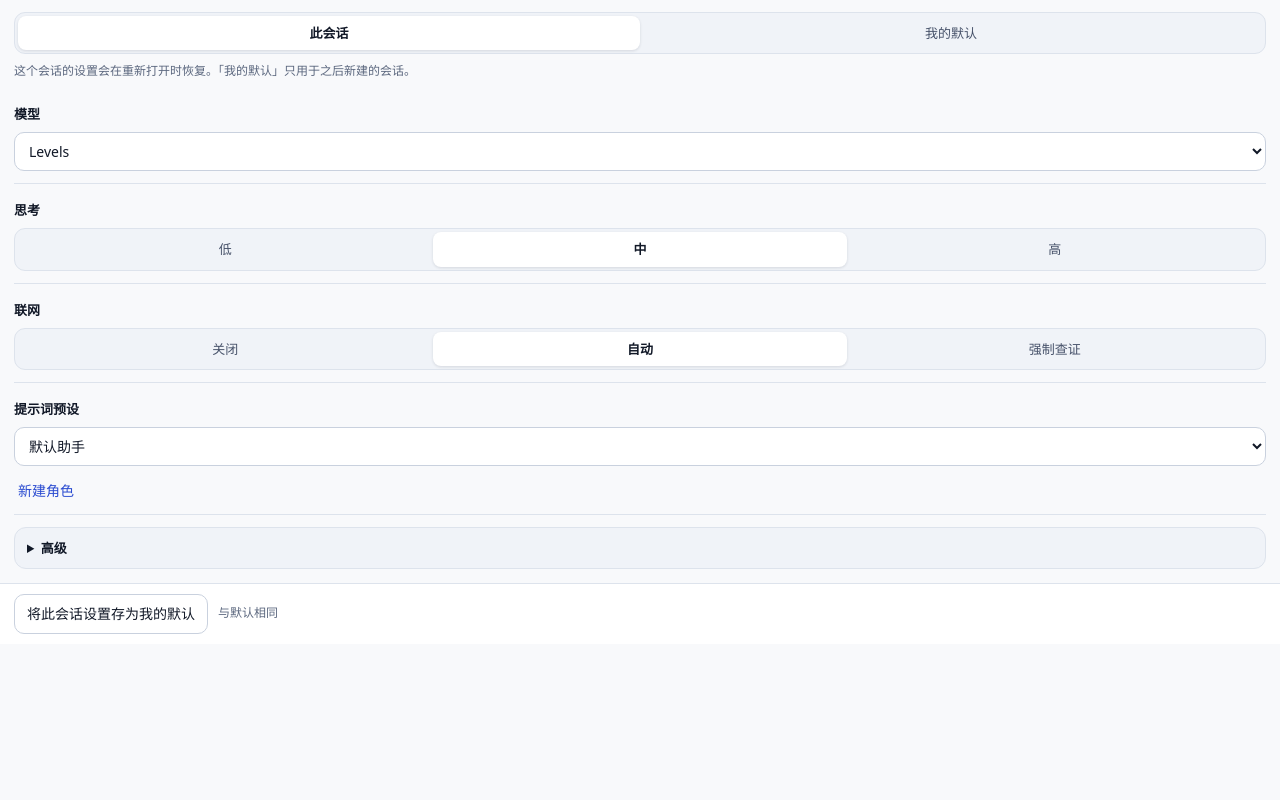
Test: SettingsPanel › lists my roles beside the presets and copies the chosen one into the conversation
The width and height of the screenshot is (1280, 800).
Select "写作搭子" in the dropdown named "提示词预设" at (640, 446), box x1=14 y1=427 x2=1266 y2=466
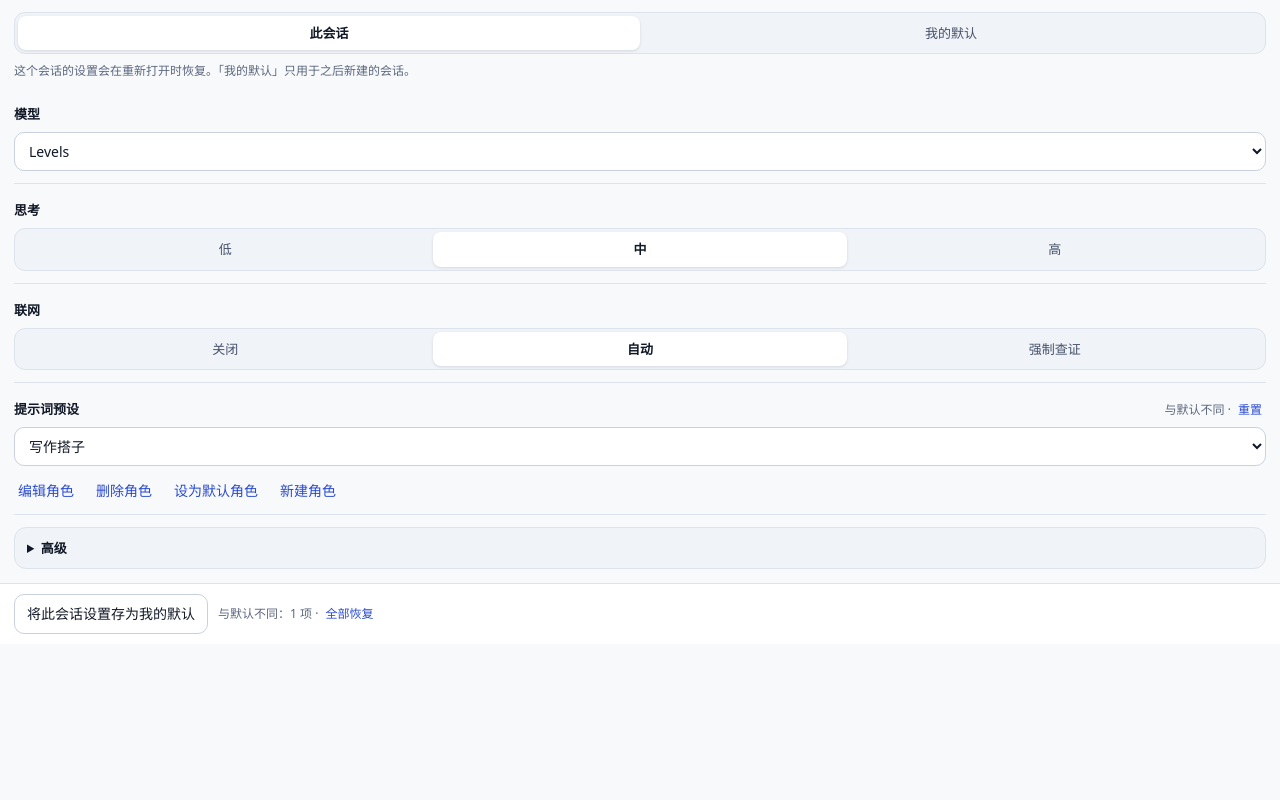
Expected: the button "编辑角色" is shown, x1=14 y1=480 x2=78 y2=502
